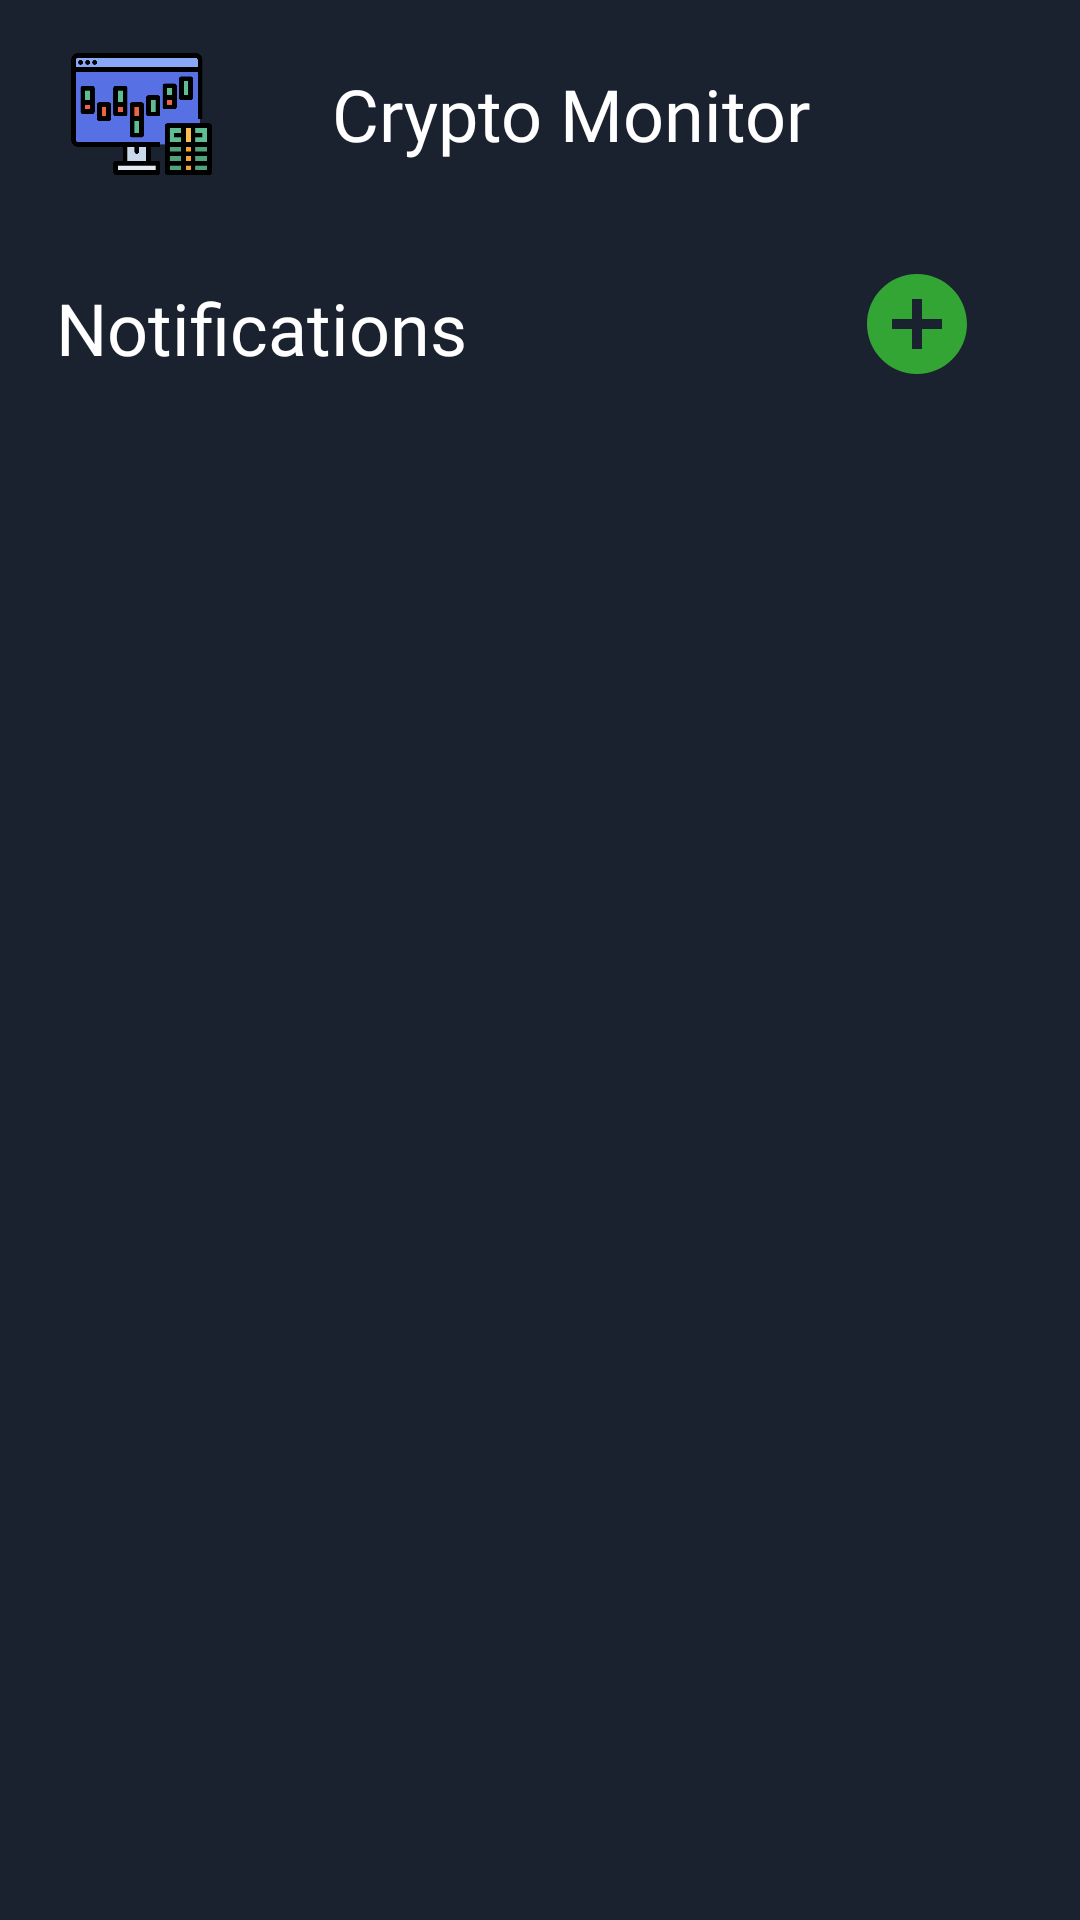

Named icons in this screenshot (1080 x 1920) and their bounding boxes, (x1, y1, x2, y2):
investment: (71, 53, 212, 175)
